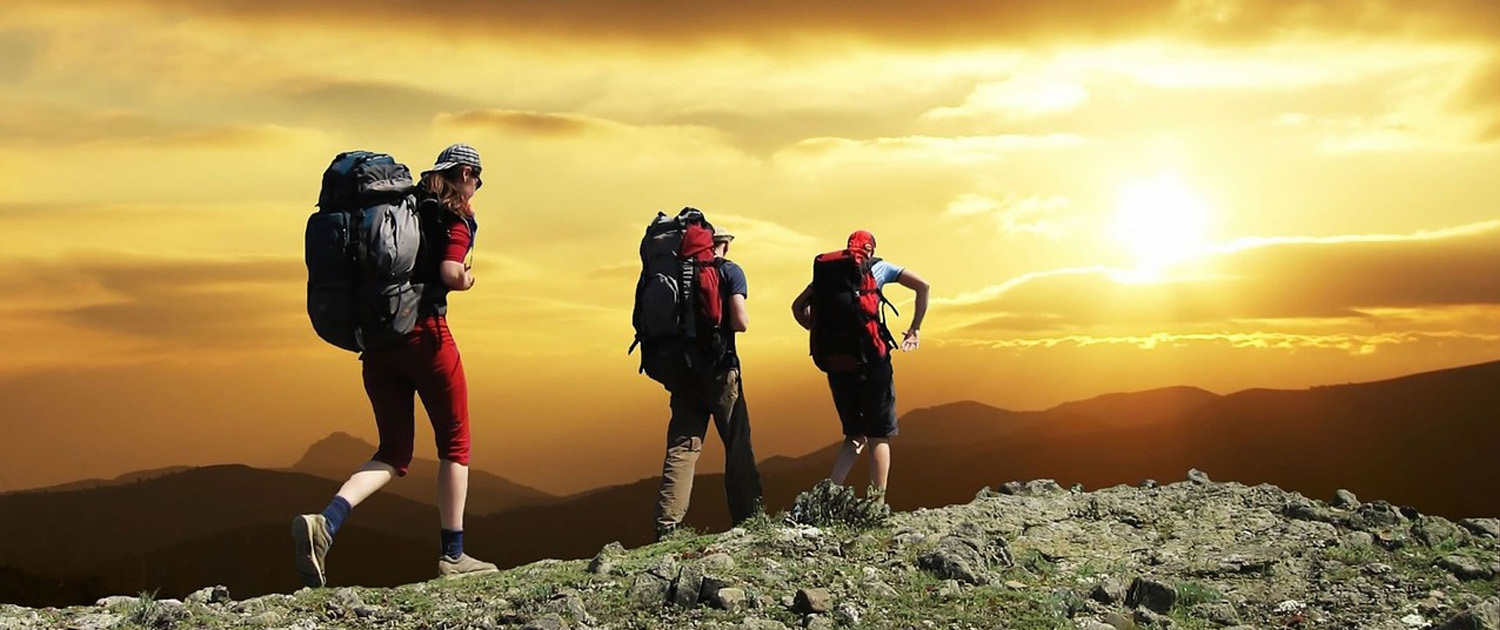people: (314, 152, 495, 577), (640, 207, 770, 530), (804, 228, 914, 516)
